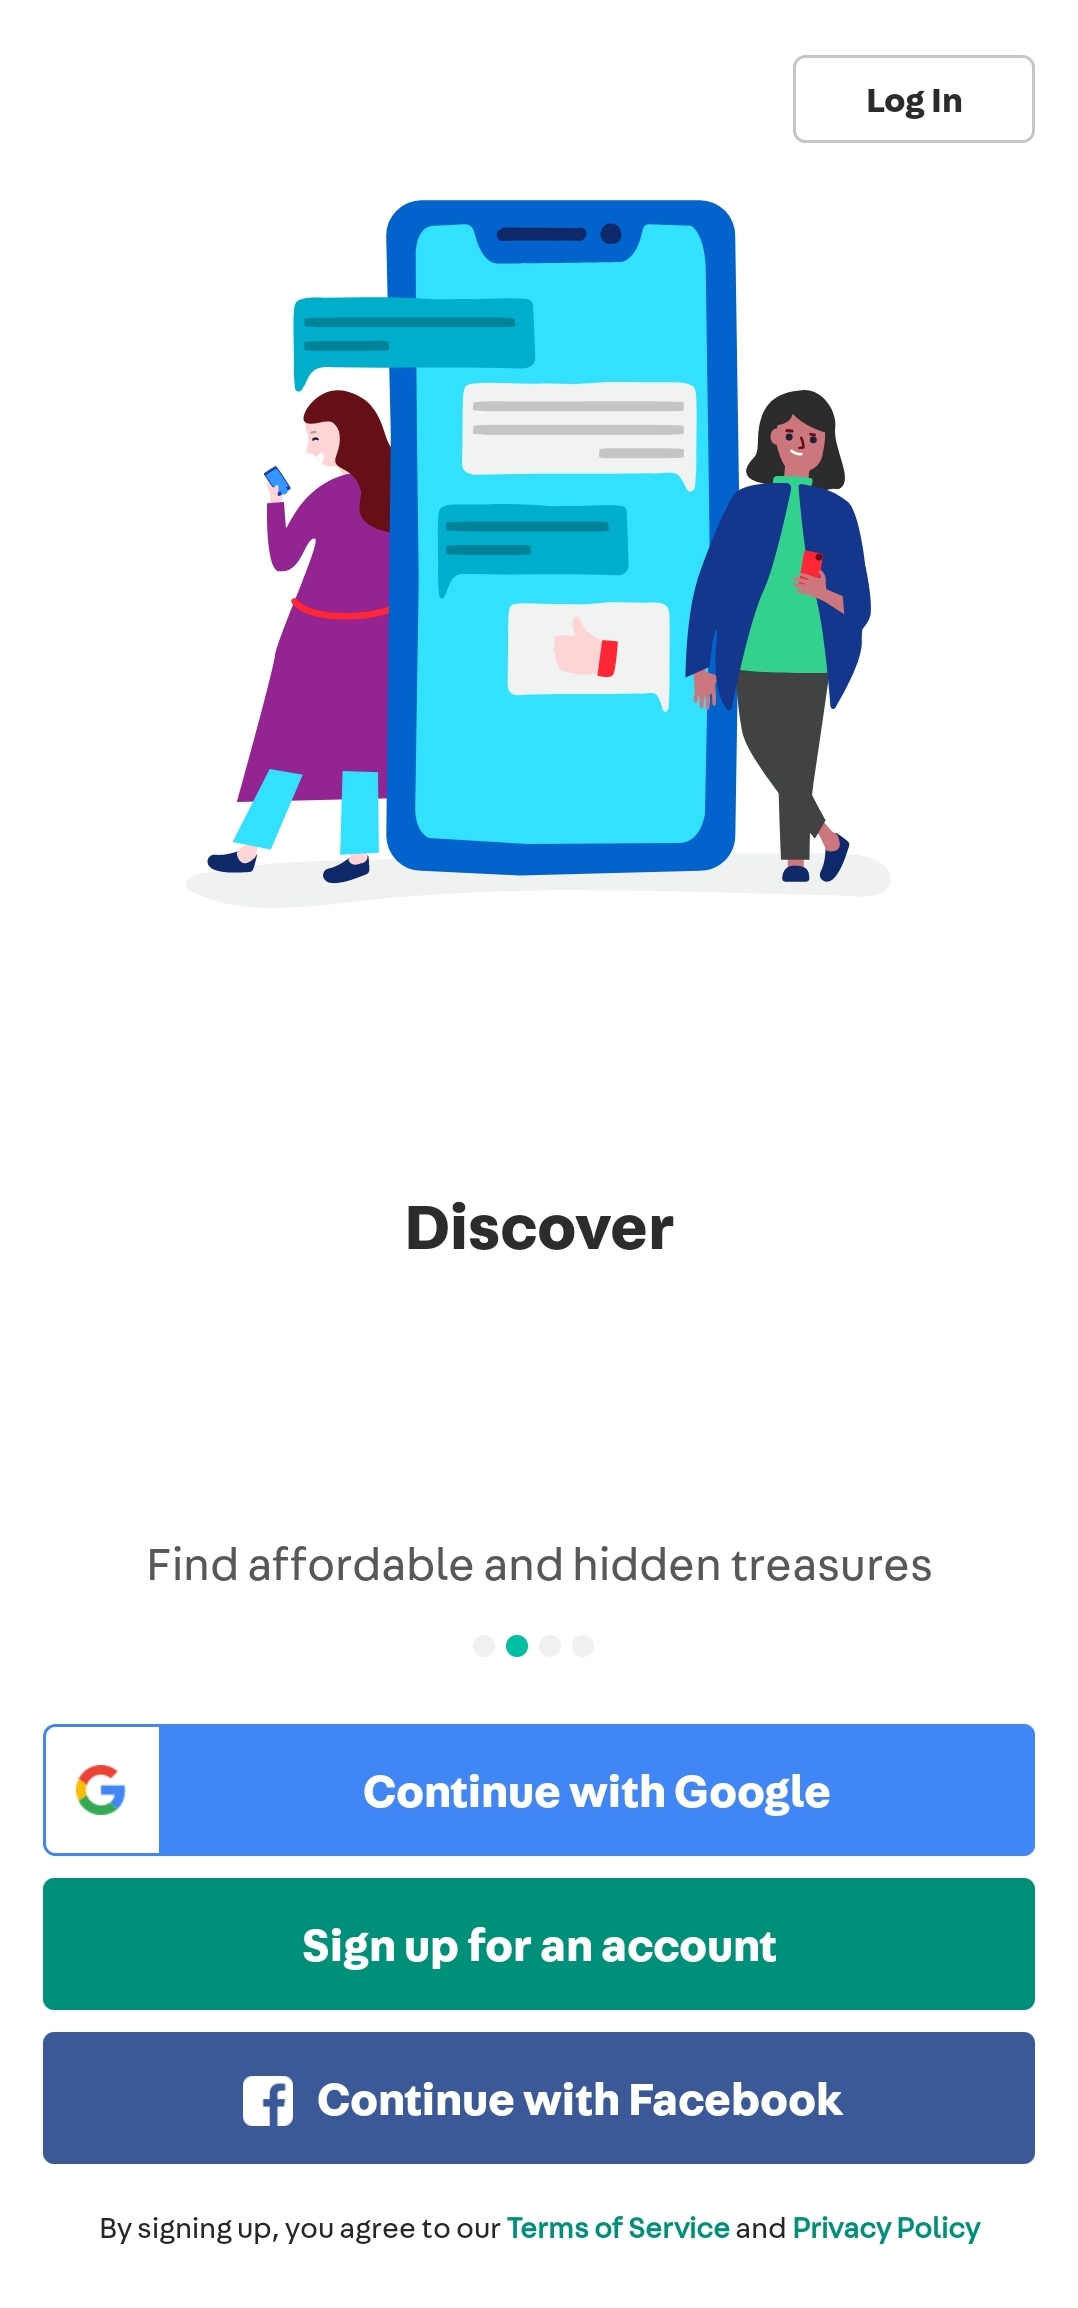Text: (401, 1200, 680, 1257), (247, 1543, 476, 1590), (629, 2080, 850, 2121), (303, 2081, 515, 2123), (663, 1769, 841, 1816), (729, 1546, 937, 1585), (355, 1772, 566, 1810), (571, 1540, 728, 1585), (598, 1930, 785, 1965), (135, 1543, 246, 1590), (296, 1927, 398, 1972), (564, 1771, 670, 1812), (137, 2211, 236, 2251), (480, 1543, 566, 1585), (792, 2211, 897, 2245), (515, 2084, 624, 2117), (462, 1924, 539, 1968), (626, 2212, 735, 2240), (895, 2211, 984, 2243), (863, 84, 926, 124), (396, 1936, 464, 1972), (504, 2214, 593, 2240), (339, 2215, 415, 2246), (535, 1936, 596, 1967), (277, 2215, 334, 2248), (730, 2215, 794, 2243), (237, 2215, 281, 2249), (931, 85, 976, 113), (457, 2218, 504, 2245), (100, 2211, 134, 2248), (591, 2215, 636, 2240), (420, 2215, 451, 2242)
